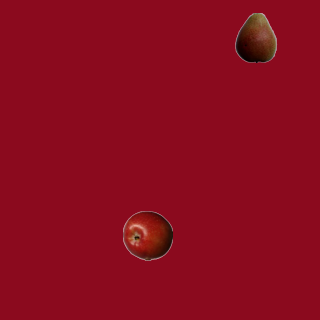Apple Braeburn: (122, 210, 172, 260)
Pear Forelle: (230, 12, 280, 62)
